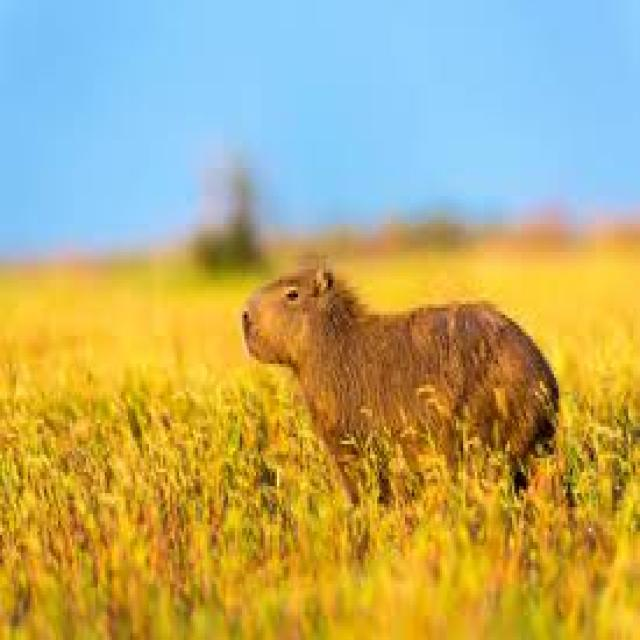capy: (237, 257, 561, 480)
